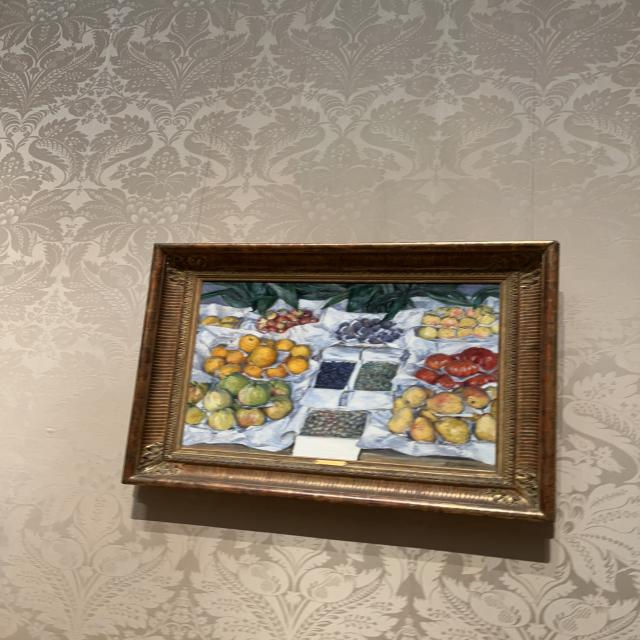fruits: (190, 289, 493, 460)
